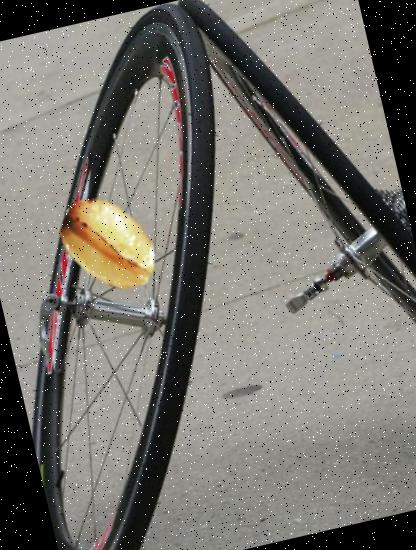Carambula: (44, 179, 174, 310)
